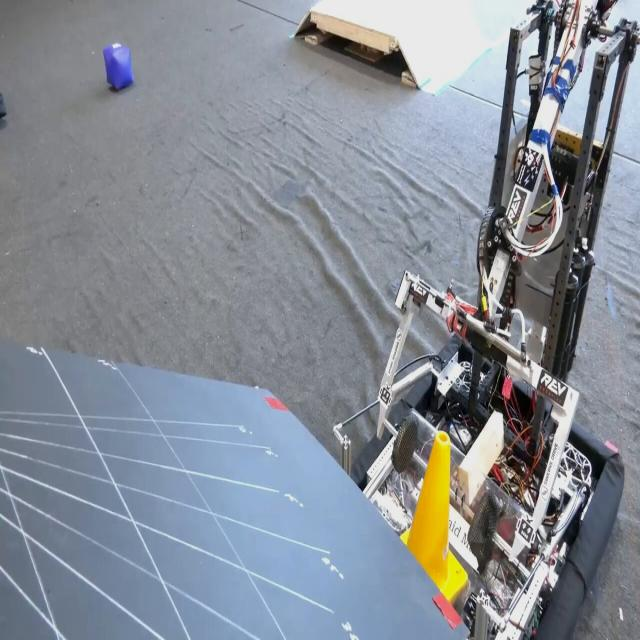frc_cone: (393, 419, 466, 607)
frc_cube: (102, 44, 137, 94)
